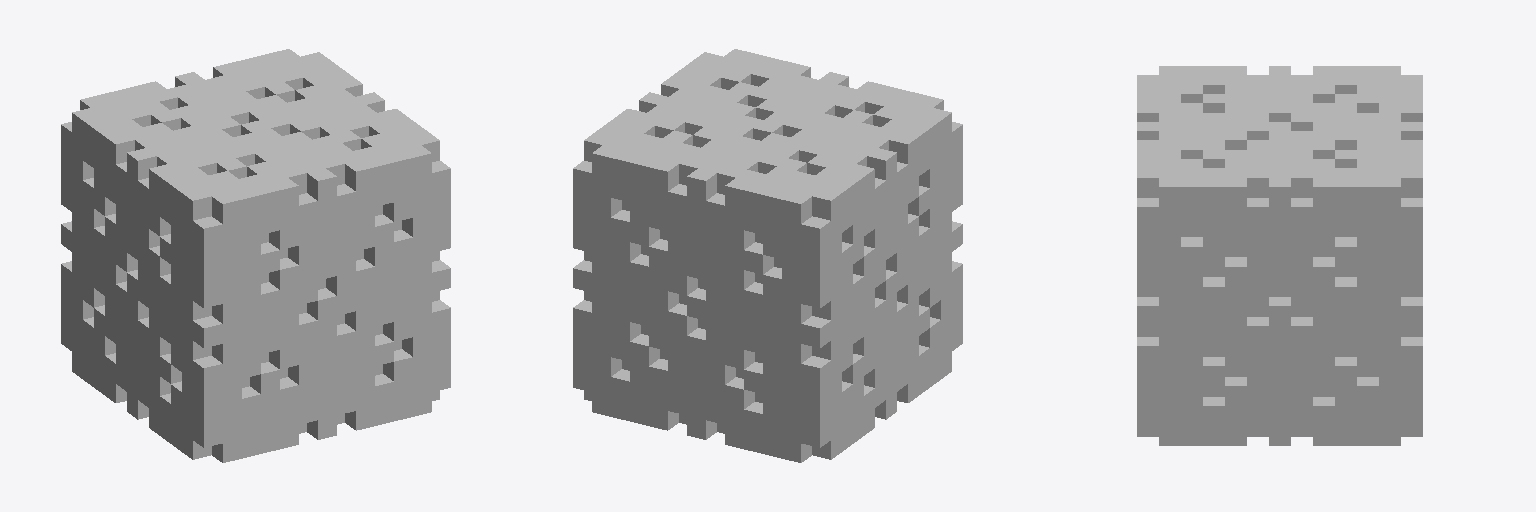
File: sandblock.obj
3 renders of one model, left to right at view 1: azimuth 30°, elevation 25°; view 2: azimuth 150°, elevation 25°; view 3: azimuth 270°, elevation 25°, orthographic.
Visible parts, largest first — view 1: object 1; view 2: object 1; view 3: object 1.
Part boxes in pixels (bbox=[...]): object 1: bbox=[61, 49, 450, 462]; object 1: bbox=[573, 49, 962, 462]; object 1: bbox=[1137, 66, 1422, 445].
Bounding box in the file's own units: 1.3 × 1.3 × 1.3.